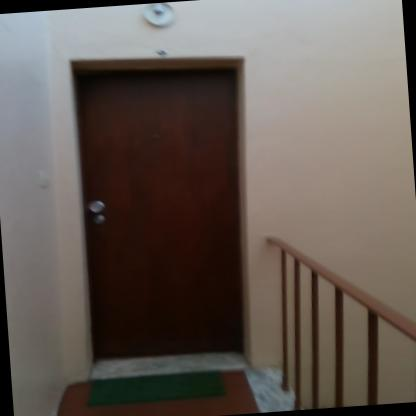closed: (45, 32, 281, 380)
